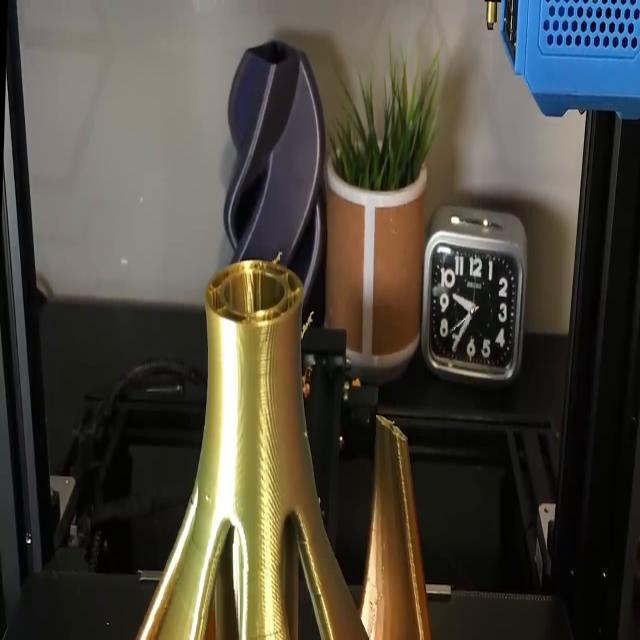spaghetti: (301, 306, 316, 345), (271, 245, 284, 262)
